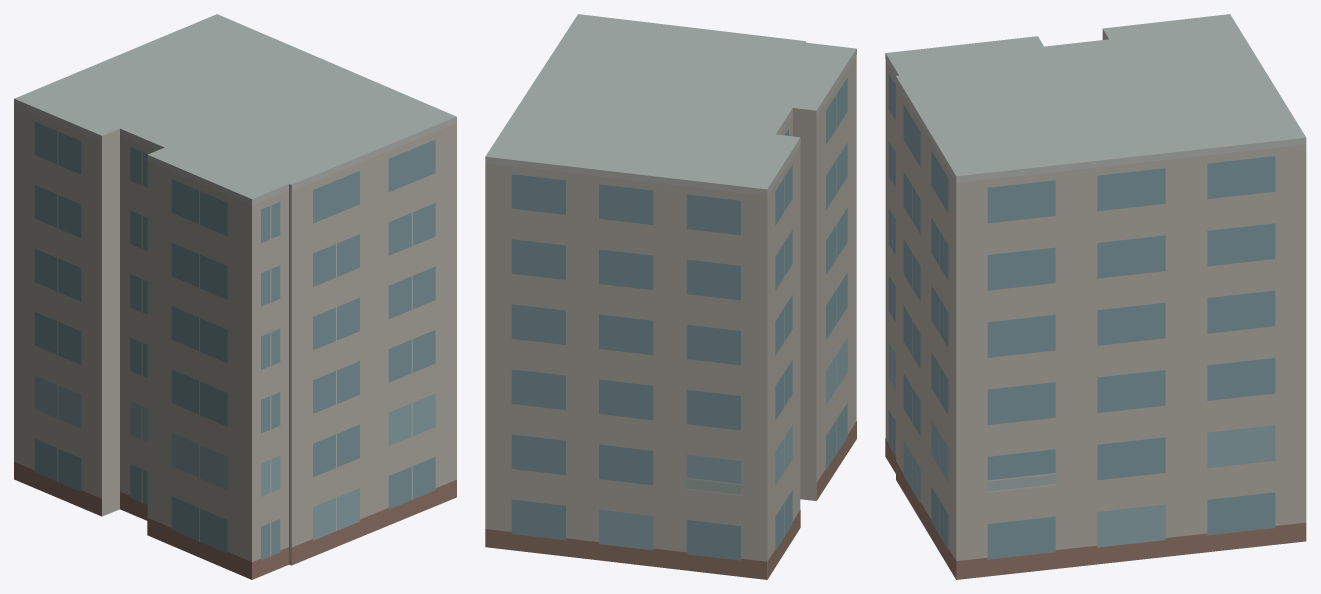
Rendered from survey-upis-32661479.glb.
3 renders of one model, left to right at view 1: azimuth 30°, elevation 25°; view 2: azimuth 150°, elevation 25°; view 3: azimuth 270°, elevation 25°, orthographic. The views are drawn at different scales.
Visible parts, largest first — view 1: survey-upis-32661479.tmp; view 2: survey-upis-32661479.tmp; view 3: survey-upis-32661479.tmp.
Part boxes in pixels (x1,y1,x2,y2): survey-upis-32661479.tmp: [14, 14, 456, 579]; survey-upis-32661479.tmp: [485, 14, 856, 579]; survey-upis-32661479.tmp: [885, 14, 1306, 579].
Size of the model in its own units: 12.77 by 14.8 by 14.
